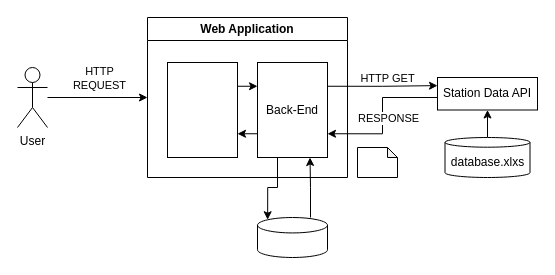
The diagram is 555 pixels wide and 275 high, and some of its shapes have lost their labels. The centre of each missing label's shape, as x and y in pixels:
Front-End: the point at 202,110
JSON: the point at 377,162
users.json: the point at 292,237
